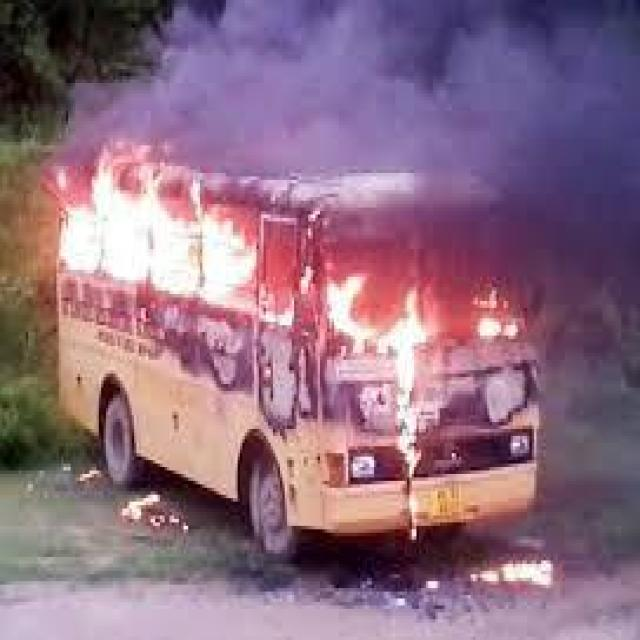fire: (26, 124, 515, 457)
smoke: (154, 3, 631, 216)
